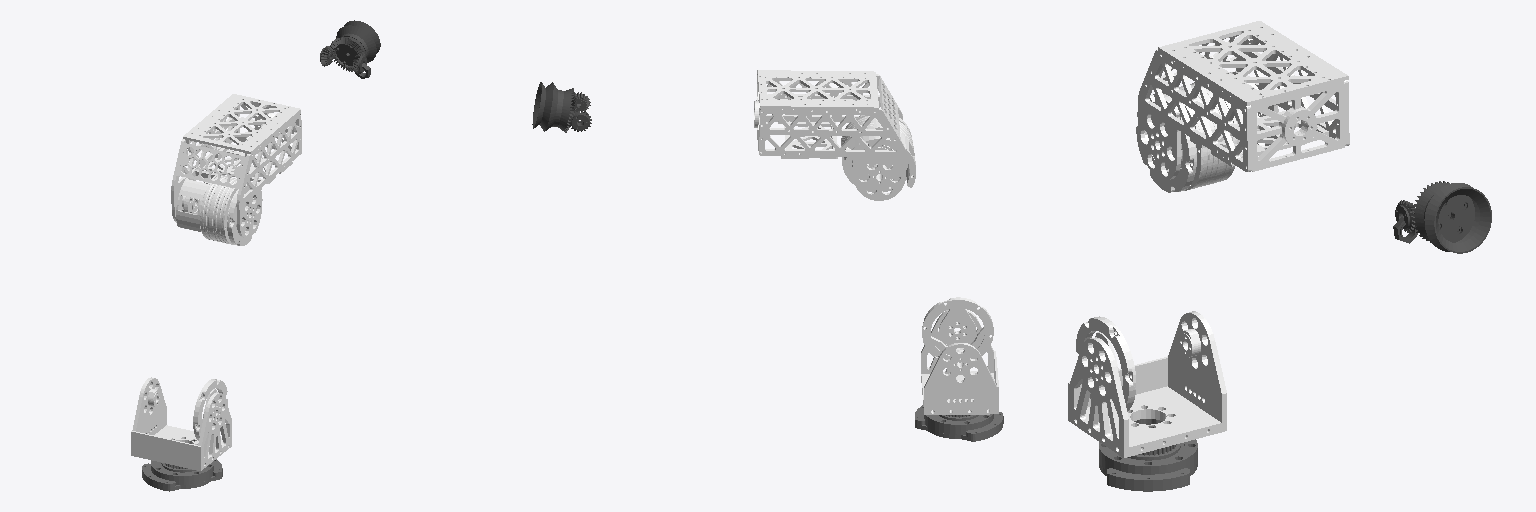
The robot description file, URDF, robot "tjurm_arm_final":
<?xml version="1.0" encoding="utf-8" ?>
<!-- This URDF was automatically created by SolidWorks to URDF Exporter! Originally created by [author] ([email redacted]) 
     Commit Version: 1.6.0-4-g7f85cfe  Build Version: 1.6.7995.38578
     For more information, please see http://wiki.ros.org/sw_urdf_exporter -->
<robot name="tjurm_arm_final">
    <link name="world" />
    <joint name="fixed" type="fixed">
        <origin xyz="0 0 0.1" rpy="0 0 0" />
        <parent link="world" />
        <child link="base_link" />
    </joint>
    <link name="base_link">
        <inertial>
            <origin xyz="0.00011022 0.00053417 0.012164" rpy="0 0 0" />
            <mass value="0.24508" />
            <inertia ixx="0.00014956" ixy="1.7088E-07" ixz="1.25E-09" iyy="0.00027306" iyz="5.4586E-08" izz="0.00041592" />
        </inertial>
        <visual>
            <origin xyz="0 0 0" rpy="0 0 0" />
            <geometry>
                <mesh filename="package://tjurm_arm_final/meshes/base_link.STL" />
            </geometry>
            <material name="">
                <color rgba="0.50196 0.50196 0.50196 1" />
            </material>
        </visual>
        <collision>
            <origin xyz="0 0 0" rpy="0 0 0" />
            <geometry>
                <mesh filename="package://tjurm_arm_final/meshes/base_link.STL" />
            </geometry>
        </collision>
    </link>
    <link name="link1">
        <inertial>
            <origin xyz="-0.0015821 -0.0046198 -0.046525" rpy="0 0 0" />
            <mass value="0.4841" />
            <inertia ixx="0.00043317" ixy="-3.8728E-08" ixz="-7.3882E-08" iyy="0.00053999" iyz="-1.9596E-07" izz="0.00062525" />
        </inertial>
        <visual>
            <origin xyz="0 0 0" rpy="0 0 0" />
            <geometry>
                <mesh filename="package://tjurm_arm_final/meshes/link1.STL" />
            </geometry>
            <material name="">
                <color rgba="1 1 1 1" />
            </material>
        </visual>
        <collision>
            <origin xyz="0 0 0" rpy="0 0 0" />
            <geometry>
                <mesh filename="package://tjurm_arm_final/meshes/link1.STL" />
            </geometry>
        </collision>
    </link>
    <joint name="joint1" type="revolute">
        <origin xyz="0 0 0.116" rpy="0 0 0.55928" />
        <parent link="base_link" />
        <child link="link1" />
        <axis xyz="0 0 1" />
        <limit lower="-3.14" upper="3.14" effort="100" velocity="1" />
    </joint>
    <link name="link2">
        <inertial>
            <origin xyz="0.036572 -0.088845 -0.0047651" rpy="0 0 0" />
            <mass value="0.96792" />
            <inertia ixx="0.0042639" ixy="0.0013774" ixz="-3.3091E-08" iyy="0.0012653" iyz="2.0765E-07" izz="0.0051304" />
        </inertial>
        <visual>
            <origin xyz="0 0 0" rpy="0 0 0" />
            <geometry>
                <mesh filename="package://tjurm_arm_final/meshes/link2.STL" />
            </geometry>
            <material name="">
                <color rgba="1 1 1 1" />
            </material>
        </visual>
        <collision>
            <origin xyz="0 0 0" rpy="0 0 0" />
            <geometry>
                <mesh filename="package://tjurm_arm_final/meshes/link2.STL" />
            </geometry>
        </collision>
    </link>
    <joint name="joint2" type="revolute">
        <origin xyz="0 0 0" rpy="-1.5708 0 0" />
        <parent link="link1" />
        <child link="link2" />
        <axis xyz="0 0 1" />
        <limit lower="-3.14" upper="3.14" effort="100" velocity="1" />
    </joint>
    <link name="link3">
        <inertial>
            <origin xyz="0.46285 0.24405 0.010212" rpy="0 0 0" />
            <mass value="33.889" />
            <inertia ixx="0.38228" ixy="-0.12633" ixz="5.6831E-08" iyy="0.43762" iyz="3.695E-07" izz="0.56671" />
        </inertial>
        <visual>
            <origin xyz="0 0 0" rpy="0 0 0" />
            <geometry>
                <mesh filename="package://tjurm_arm_final/meshes/link3.STL" />
            </geometry>
            <material name="">
                <color rgba="1 1 1 1" />
            </material>
        </visual>
        <collision>
            <origin xyz="0 0 0" rpy="0 0 0" />
            <geometry>
                <mesh filename="package://tjurm_arm_final/meshes/link3.STL" />
            </geometry>
        </collision>
    </link>
    <joint name="joint3" type="revolute">
        <origin xyz="0.10898 -0.2795 0" rpy="0 0 -1.5708" />
        <parent link="link2" />
        <child link="link3" />
        <axis xyz="0 0 1" />
        <limit lower="-3.14" upper="3.14" effort="100" velocity="1" />
    </joint>
    <link name="link4">
        <inertial>
            <origin xyz="1.6006E-05 0.0020602 -0.1441" rpy="0 0 0" />
            <mass value="0.67592" />
            <inertia ixx="0.0014386" ixy="8.9402E-08" ixz="1.5146E-07" iyy="0.0014246" iyz="-2.5174E-07" izz="0.00033236" />
        </inertial>
        <visual>
            <origin xyz="0 0 0" rpy="0 0 0" />
            <geometry>
                <mesh filename="package://tjurm_arm_final/meshes/link4.STL" />
            </geometry>
            <material name="">
                <color rgba="1 1 1 1" />
            </material>
        </visual>
        <collision>
            <origin xyz="0 0 0" rpy="0 0 0" />
            <geometry>
                <mesh filename="package://tjurm_arm_final/meshes/link4.STL" />
            </geometry>
        </collision>
    </link>
    <joint name="joint4" type="revolute">
        <origin xyz="0.077079 0.40288 0" rpy="-1.5708 0 -0.0299" />
        <parent link="link3" />
        <child link="link4" />
        <axis xyz="0 0 1" />
        <limit lower="-3.14" upper="3.14" effort="100" velocity="1" />
    </joint>
    <link name="link5">
        <inertial>
            <origin xyz="-0.00082273 -0.029904 0.0019507" rpy="0 0 0" />
            <mass value="0.24703" />
            <inertia ixx="6.3129E-05" ixy="2.0859E-13" ixz="-2.4905E-12" iyy="0.00010174" iyz="2.5079E-14" izz="6.3518E-05" />
        </inertial>
        <visual>
            <origin xyz="0 0 0" rpy="0 0 0" />
            <geometry>
                <mesh filename="package://tjurm_arm_final/meshes/link5.STL" />
            </geometry>
            <material name="">
                <color rgba="0.37255 0.37255 0.37255 1" />
            </material>
        </visual>
        <collision>
            <origin xyz="0 0 0" rpy="0 0 0" />
            <geometry>
                <mesh filename="package://tjurm_arm_final/meshes/link5.STL" />
            </geometry>
        </collision>
    </link>
    <joint name="joint5" type="revolute">
        <origin xyz="0 0 0" rpy="-1.5708 0.16437 0" />
        <parent link="link4" />
        <child link="link5" />
        <axis xyz="0 0 1" />
        <limit lower="-3.14" upper="3.14" effort="100" velocity="1" />
    </joint>
    <link name="link6">
        <inertial>
            <origin xyz="0.0029253 4.8597E-05 0.11575" rpy="0 0 0" />
            <mass value="7.6366" />
            <inertia ixx="0.048445" ixy="-9.6208E-11" ixz="1.3674E-06" iyy="0.048461" iyz="-2.3383E-08" izz="0.048449" />
        </inertial>
        <visual>
            <origin xyz="0 0 0" rpy="0 0 0" />
            <geometry>
                <mesh filename="package://tjurm_arm_final/meshes/link6.STL" />
            </geometry>
            <material name="">
                <color rgba="1 1 1 1" />
            </material>
        </visual>
        <collision>
            <origin xyz="0 0 0" rpy="0 0 0" />
            <geometry>
                <mesh filename="package://tjurm_arm_final/meshes/link6.STL" />
            </geometry>
        </collision>
    </link>
    <joint name="joint6" type="revolute">
        <origin xyz="0 -0.042454 0" rpy="1.5708 0 0" />
        <parent link="link5" />
        <child link="link6" />
        <axis xyz="0 0 1" />
        <limit lower="-3.14" upper="3.14" effort="100" velocity="1" />
    </joint>
    <transmission name="trans_joint1">
        <type>transmission_interface/SimpleTransmission</type>
        <joint name="joint1">
            <hardwareInterface>hardware_interface/EffortJointInterface</hardwareInterface>
        </joint>
        <actuator name="joint1_motor">
            <hardwareInterface>hardware_interface/EffortJointInterface</hardwareInterface>
            <mechanicalReduction>1</mechanicalReduction>
        </actuator>
    </transmission>
    <transmission name="trans_joint2">
        <type>transmission_interface/SimpleTransmission</type>
        <joint name="joint2">
            <hardwareInterface>hardware_interface/EffortJointInterface</hardwareInterface>
        </joint>
        <actuator name="joint2_motor">
            <hardwareInterface>hardware_interface/EffortJointInterface</hardwareInterface>
            <mechanicalReduction>1</mechanicalReduction>
        </actuator>
    </transmission>
    <transmission name="trans_joint3">
        <type>transmission_interface/SimpleTransmission</type>
        <joint name="joint3">
            <hardwareInterface>hardware_interface/EffortJointInterface</hardwareInterface>
        </joint>
        <actuator name="joint3_motor">
            <hardwareInterface>hardware_interface/EffortJointInterface</hardwareInterface>
            <mechanicalReduction>1</mechanicalReduction>
        </actuator>
    </transmission>
    <transmission name="trans_joint4">
        <type>transmission_interface/SimpleTransmission</type>
        <joint name="joint4">
            <hardwareInterface>hardware_interface/EffortJointInterface</hardwareInterface>
        </joint>
        <actuator name="joint4_motor">
            <hardwareInterface>hardware_interface/EffortJointInterface</hardwareInterface>
            <mechanicalReduction>1</mechanicalReduction>
        </actuator>
    </transmission>
    <transmission name="trans_joint5">
        <type>transmission_interface/SimpleTransmission</type>
        <joint name="joint5">
            <hardwareInterface>hardware_interface/EffortJointInterface</hardwareInterface>
        </joint>
        <actuator name="joint5_motor">
            <hardwareInterface>hardware_interface/EffortJointInterface</hardwareInterface>
            <mechanicalReduction>1</mechanicalReduction>
        </actuator>
    </transmission>
    <transmission name="trans_joint6">
        <type>transmission_interface/SimpleTransmission</type>
        <joint name="joint6">
            <hardwareInterface>hardware_interface/EffortJointInterface</hardwareInterface>
        </joint>
        <actuator name="joint6_motor">
            <hardwareInterface>hardware_interface/EffortJointInterface</hardwareInterface>
            <mechanicalReduction>1</mechanicalReduction>
        </actuator>
    </transmission>
    <gazebo>
        <plugin name="gazebo_ros_control" filename="libgazebo_ros_control.so">
            <robotNamespace>/</robotNamespace>
        </plugin>
    </gazebo>
</robot>

--- Facts derived from the render (not from the file) ---
3 views of the same robot in one strip: view 1: azimuth 30°, elevation 25°; view 2: azimuth 150°, elevation 25°; view 3: azimuth 270°, elevation 25° (orthographic).
Model tjurm_arm_final with 8 links and 7 joints (6 revolute, 1 fixed), rooted at world, posed all joints at 0.
Visible links, largest first — view 1: link3, link1, link5, base_link; view 2: link3, link1, link5, base_link; view 3: link3, link1, link5, base_link.
Link boxes in pixels (box(x1,y1,x2,y2)): link3: box(171, 94, 301, 245); link1: box(131, 377, 231, 470); link5: box(320, 20, 380, 78); base_link: box(142, 440, 222, 491); link3: box(754, 70, 915, 200); link1: box(921, 297, 998, 414); link5: box(532, 82, 591, 132); base_link: box(915, 405, 1003, 441); link3: box(1136, 21, 1349, 192); link1: box(1068, 311, 1226, 457); link5: box(1393, 181, 1491, 253); base_link: box(1099, 419, 1197, 491).
Bounding box of the posed robot: 0.5754 × 0.4068 × 0.5166 m (x, y, z).
4 mesh visuals loaded from 7 distinct referenced files (4 binary STL); not drawn: 3 (reference not matched to a file when rendering).
